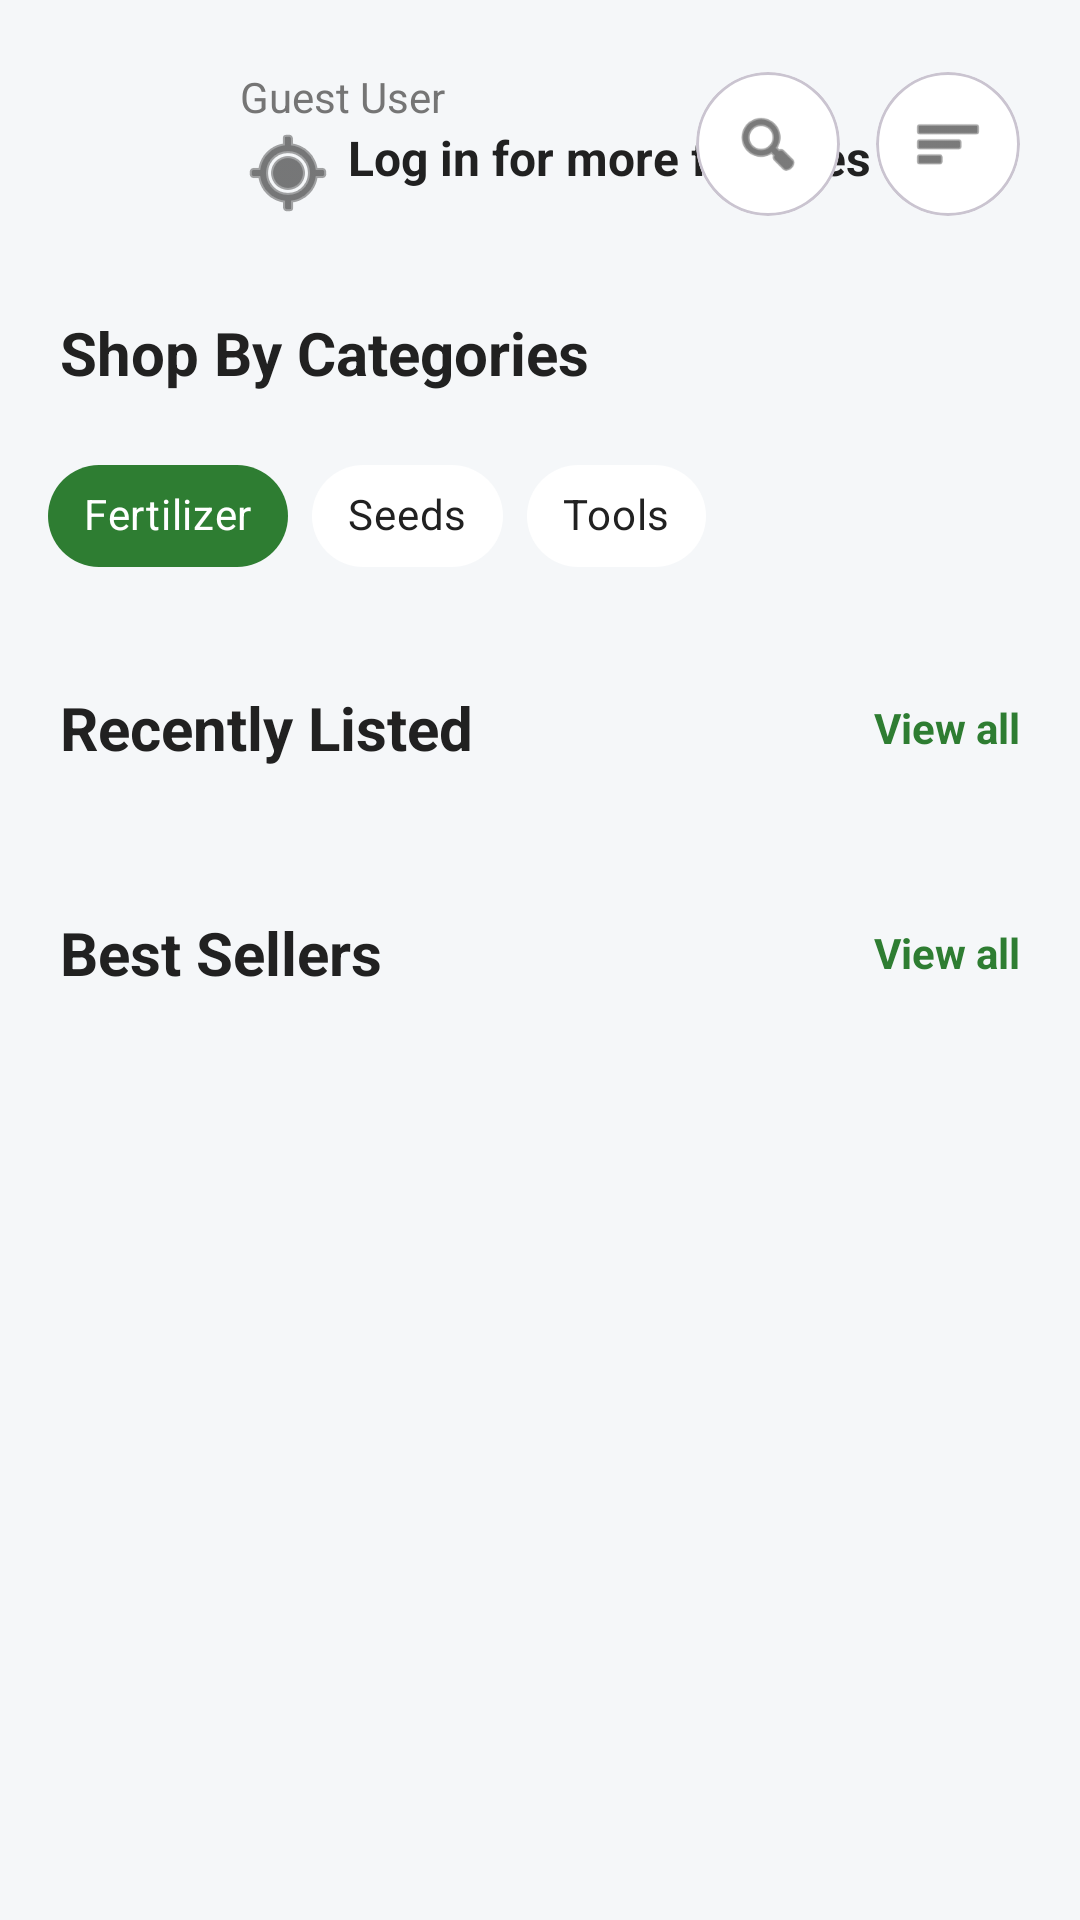

Where to tap for icons on this 1080*1920 app screen, as (x,y):
search: (768,144)
sort by size: (948,144)
